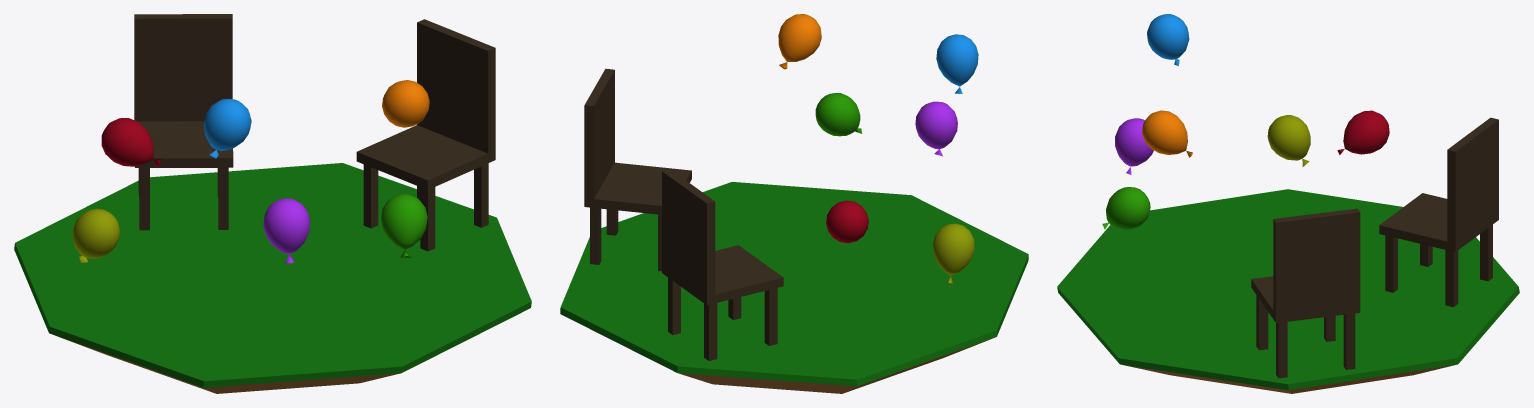
The model's file is Escenario_6.fbx.
3 views of the same model, side by side, from view 1: azimuth 30°, elevation 25°; view 2: azimuth 150°, elevation 25°; view 3: azimuth 270°, elevation 25° (orthographic). The views are drawn at different scales.
Visible parts, largest first — view 1: Plane.001, Silla.002, Silla.001, Globo; view 2: Plane.001, Silla.001, Globo, Silla.002; view 3: Plane.001, Silla.002, Silla.001, Globo.
Boxes of the visible parts, box(x1,y1,x2,y2) form: Plane.001: box(14, 163, 531, 393); Silla.002: box(356, 19, 495, 251); Silla.001: box(134, 14, 233, 230); Globo: box(72, 80, 429, 263); Plane.001: box(560, 182, 1028, 393); Silla.001: box(662, 169, 783, 360); Globo: box(778, 14, 978, 283); Silla.002: box(584, 68, 691, 271); Plane.001: box(1057, 189, 1519, 393); Silla.002: box(1251, 208, 1360, 378); Silla.001: box(1379, 117, 1498, 307); Globo: box(1102, 14, 1389, 229).
Size of the model in its own units: 326 by 203 by 326.
